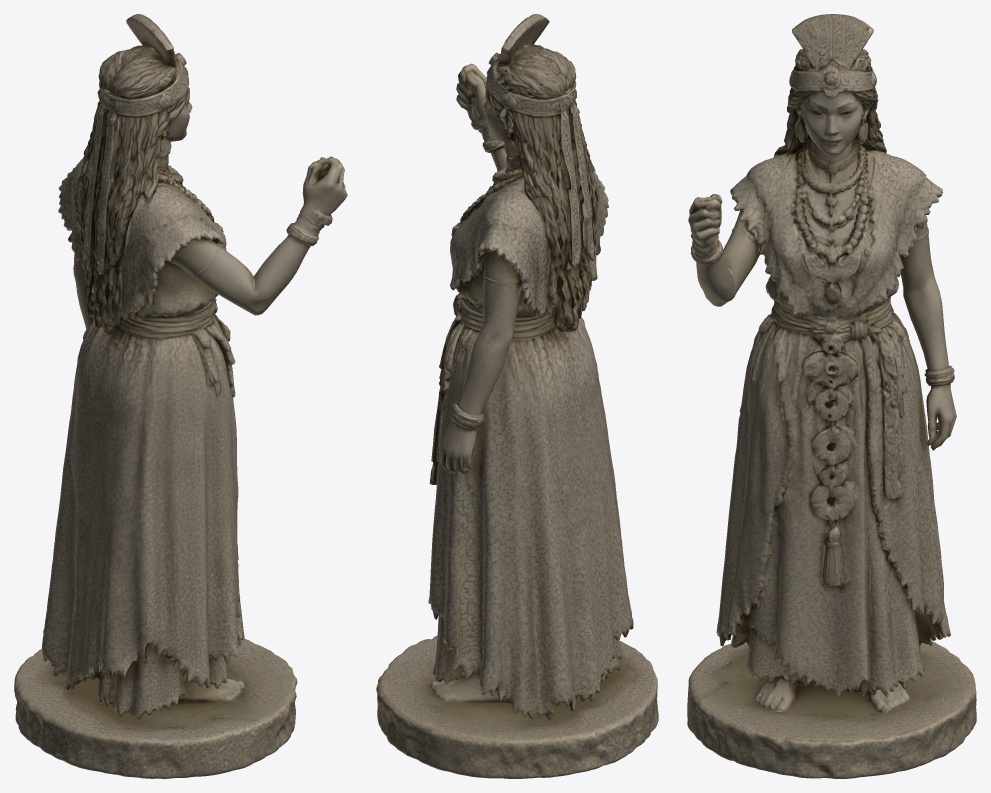
Rendered from ancient_statue_3d_model_3.fbx.
3 views of the same model, side by side, from view 1: azimuth 30°, elevation 25°; view 2: azimuth 150°, elevation 25°; view 3: azimuth 270°, elevation 25° (orthographic).
Parts seen in each view (by area): view 1: tripo_node_20c94e9b; view 2: tripo_node_20c94e9b; view 3: tripo_node_20c94e9b.
Boxes of the visible parts, x1,y1,x2,y2 form: tripo_node_20c94e9b: [14, 14, 347, 778]; tripo_node_20c94e9b: [376, 14, 658, 778]; tripo_node_20c94e9b: [687, 14, 976, 778].
Bounding box in the file's own units: 0.3554 × 0.9796 × 0.3655.
